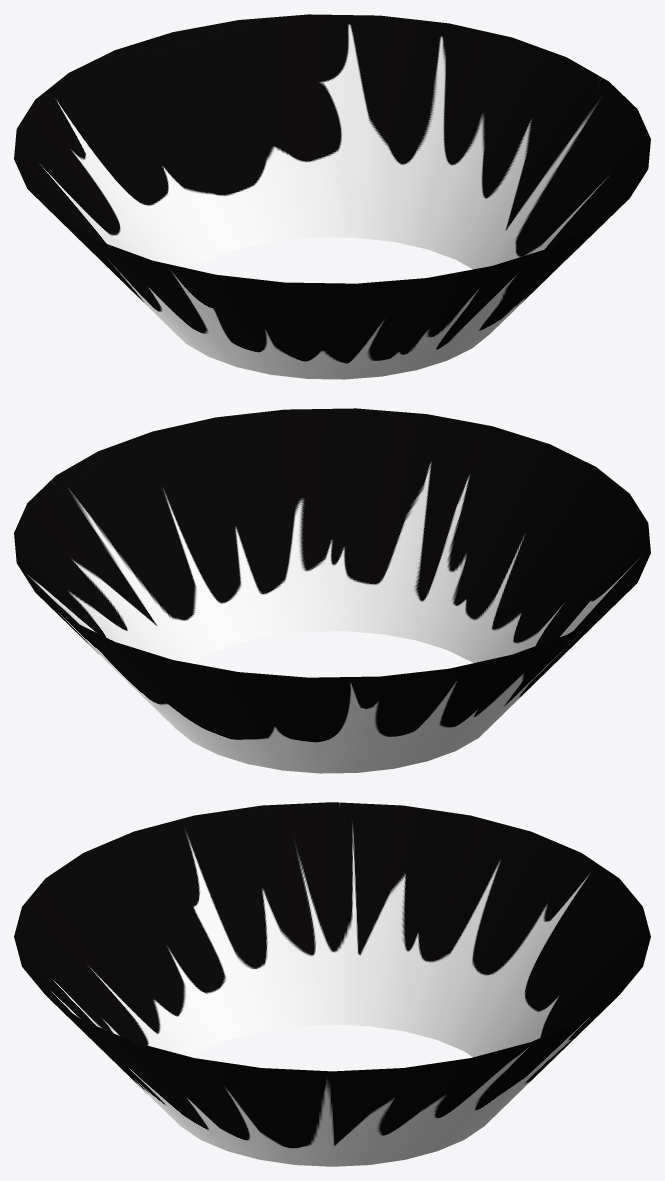
File: RaysCone.FBX
3 views of the same model, one above another, from view 1: azimuth 30°, elevation 25°; view 2: azimuth 150°, elevation 25°; view 3: azimuth 270°, elevation 25° (orthographic).
Visible parts, largest first — view 1: RingMesh; view 2: RingMesh; view 3: RingMesh.
Boxes of the visible parts, <box> form: RingMesh: <box>14,14,650,379</box>; RingMesh: <box>14,408,650,773</box>; RingMesh: <box>14,802,650,1166</box>.
Bounding box in the file's own units: 1.65 × 0.4541 × 1.65.
Materials: 1 (1 with a texture image).
